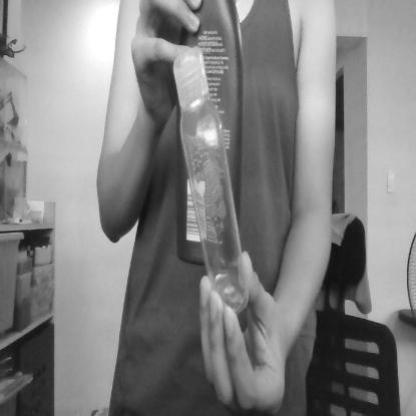Plastic Bottle: (166, 49, 262, 325)
